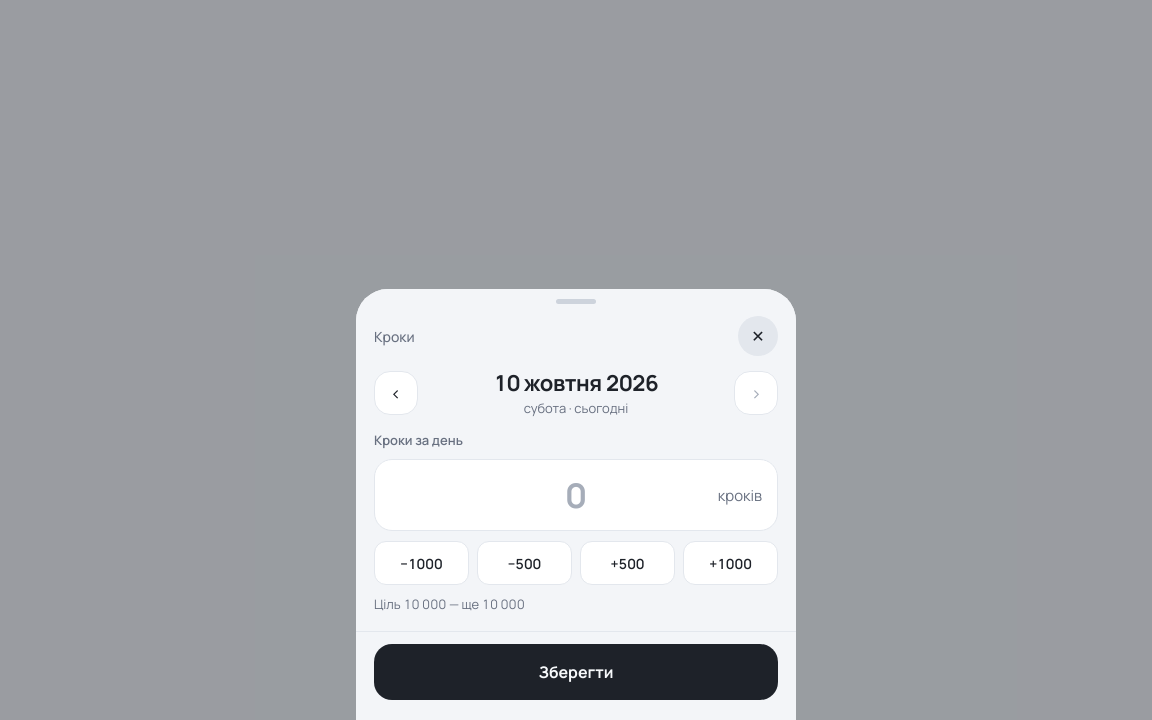
Test: «Кроки» short sheet › typed digits are grouped; with a goal the hint says what is left, then «Ціль виконано ✓»
In the field labelled "Кроки за день": (576, 495) [374,459,778,531], type "8 4a00"
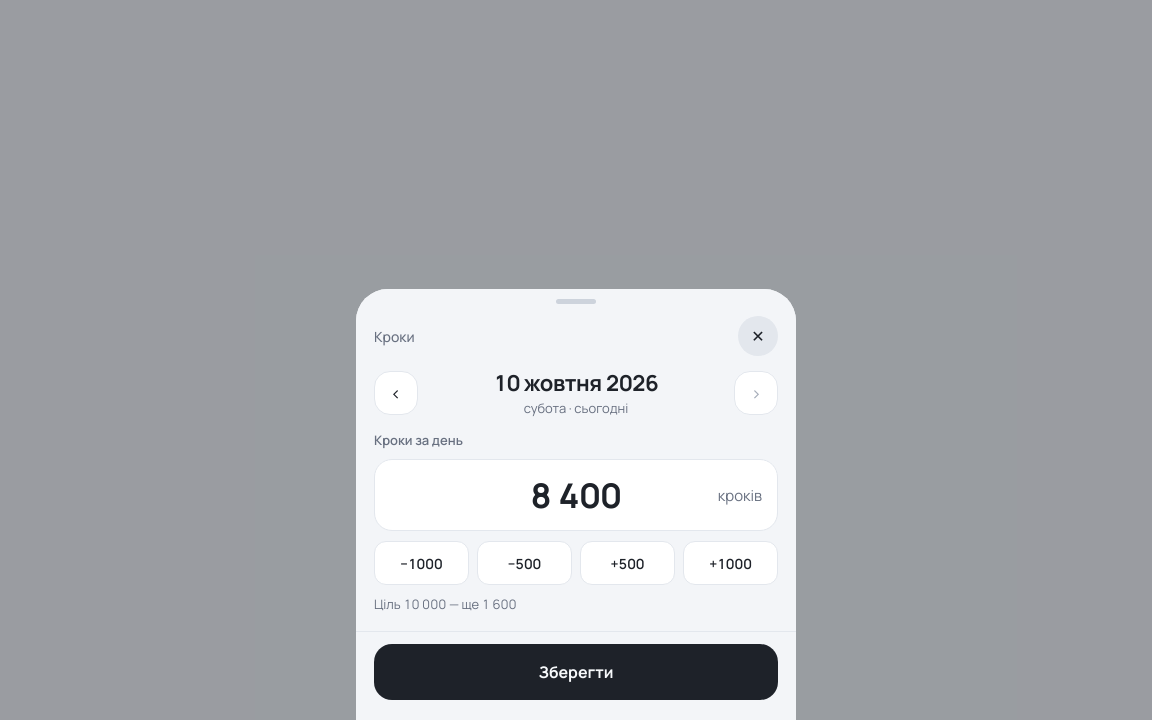
Now the field labelled "Кроки за день" holds "8 400"
Now the text "Ціль 10 000 — ще 1 600" is shown, box [374,595,517,613]
Replace the text in the field labelled "Кроки за день" with "10000": (576, 495) [374,459,778,531]
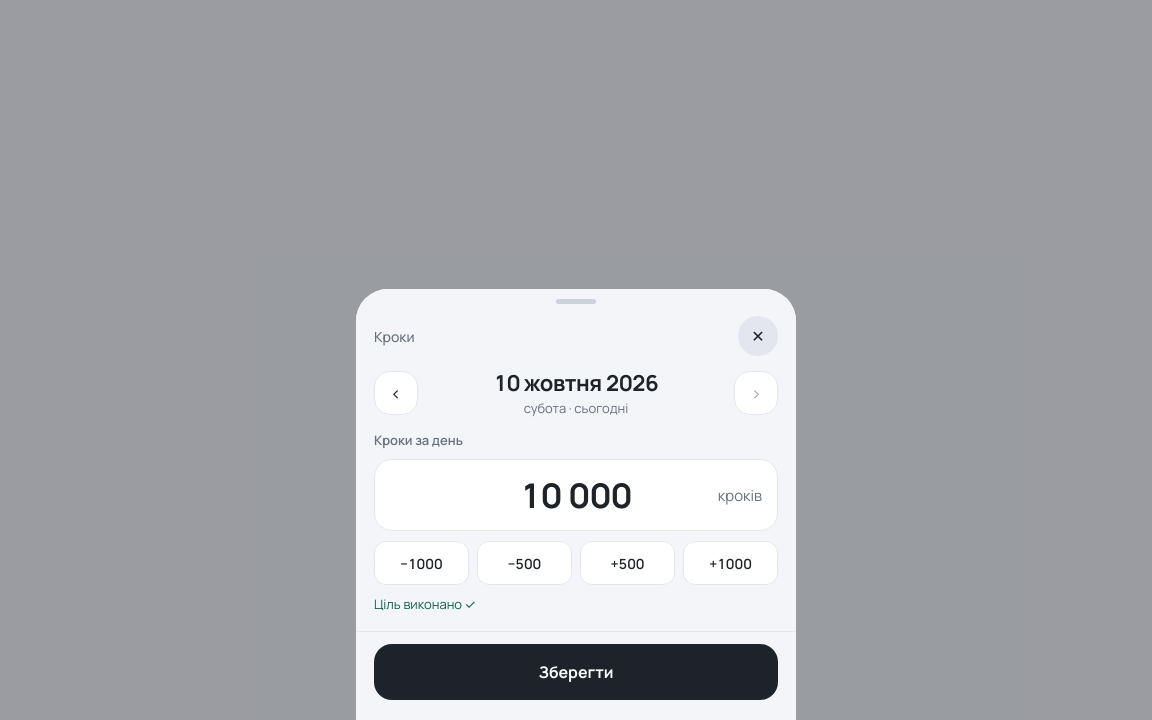
Now the text "Ціль виконано ✓" is shown, box [374,595,476,613]
